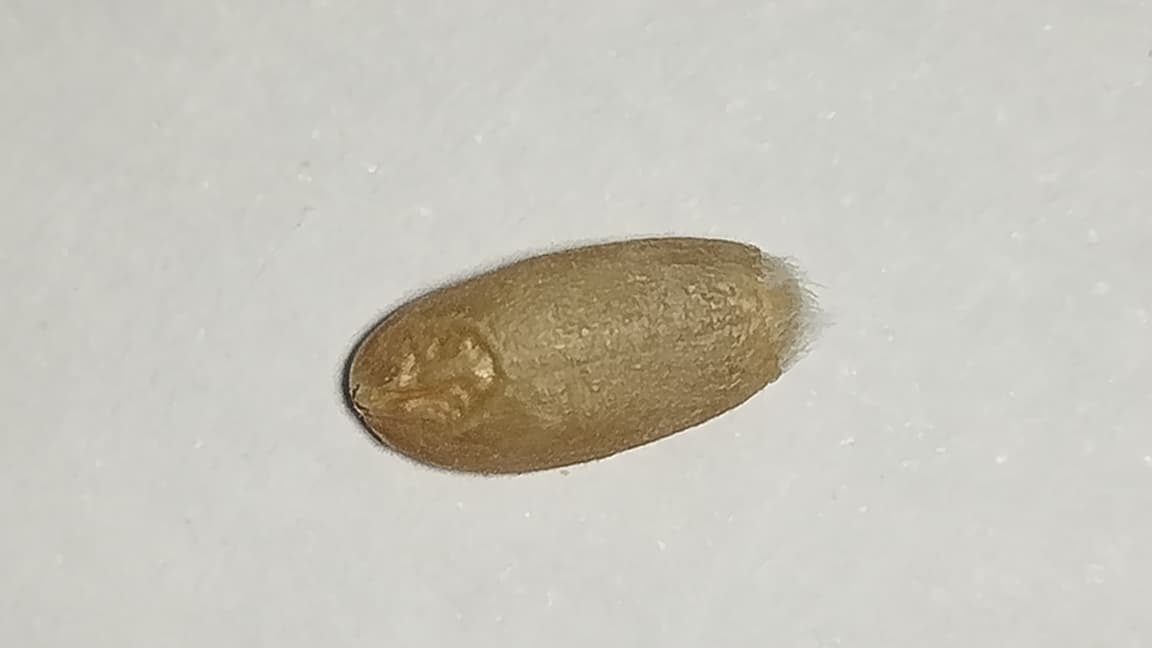healthy: (344, 235, 808, 475)
